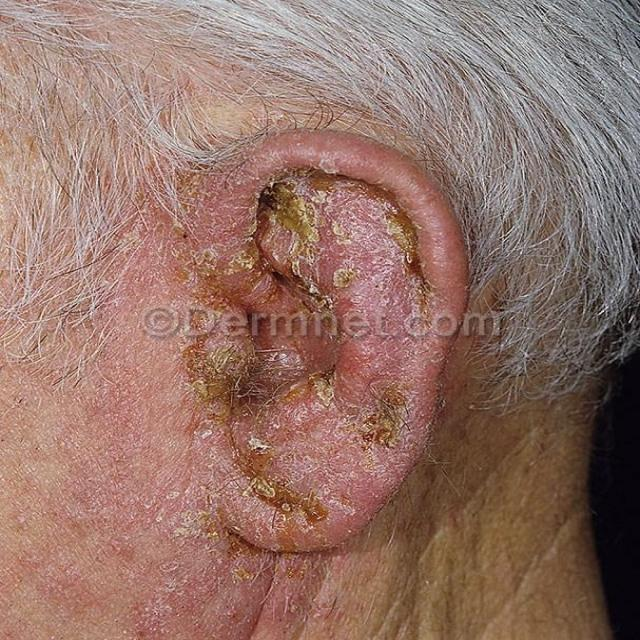Eczema: (156, 166, 433, 521)
